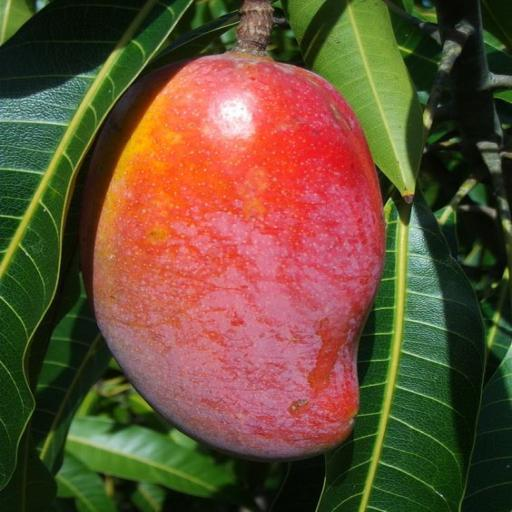mango: (81, 54, 383, 460)
